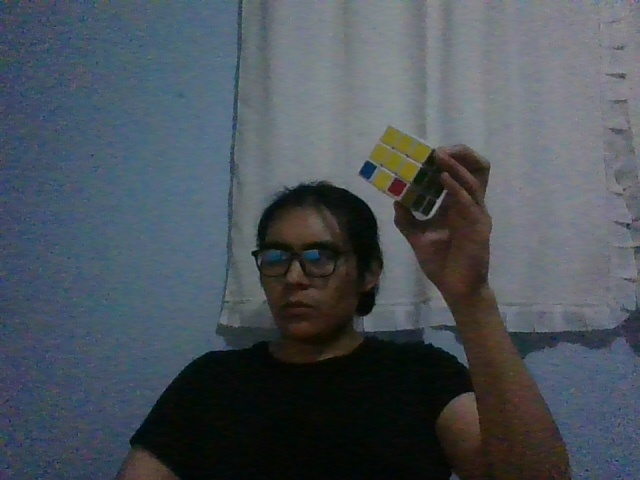rubik: (357, 125, 451, 217)
